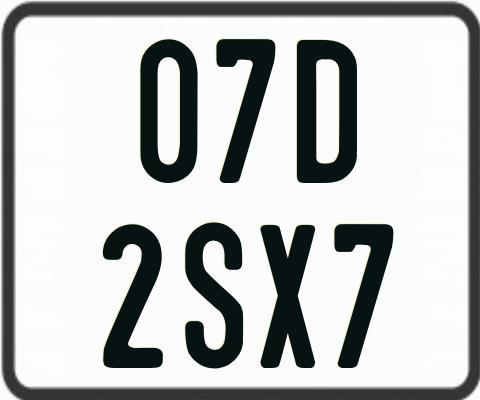0: (137, 39, 195, 189)
2: (103, 223, 167, 372)
7: (334, 224, 397, 368), (216, 38, 277, 185)
D: (295, 40, 358, 188)
S: (184, 220, 243, 368)
X: (257, 225, 314, 370)
